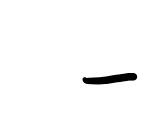minus: (82, 72, 137, 88)
